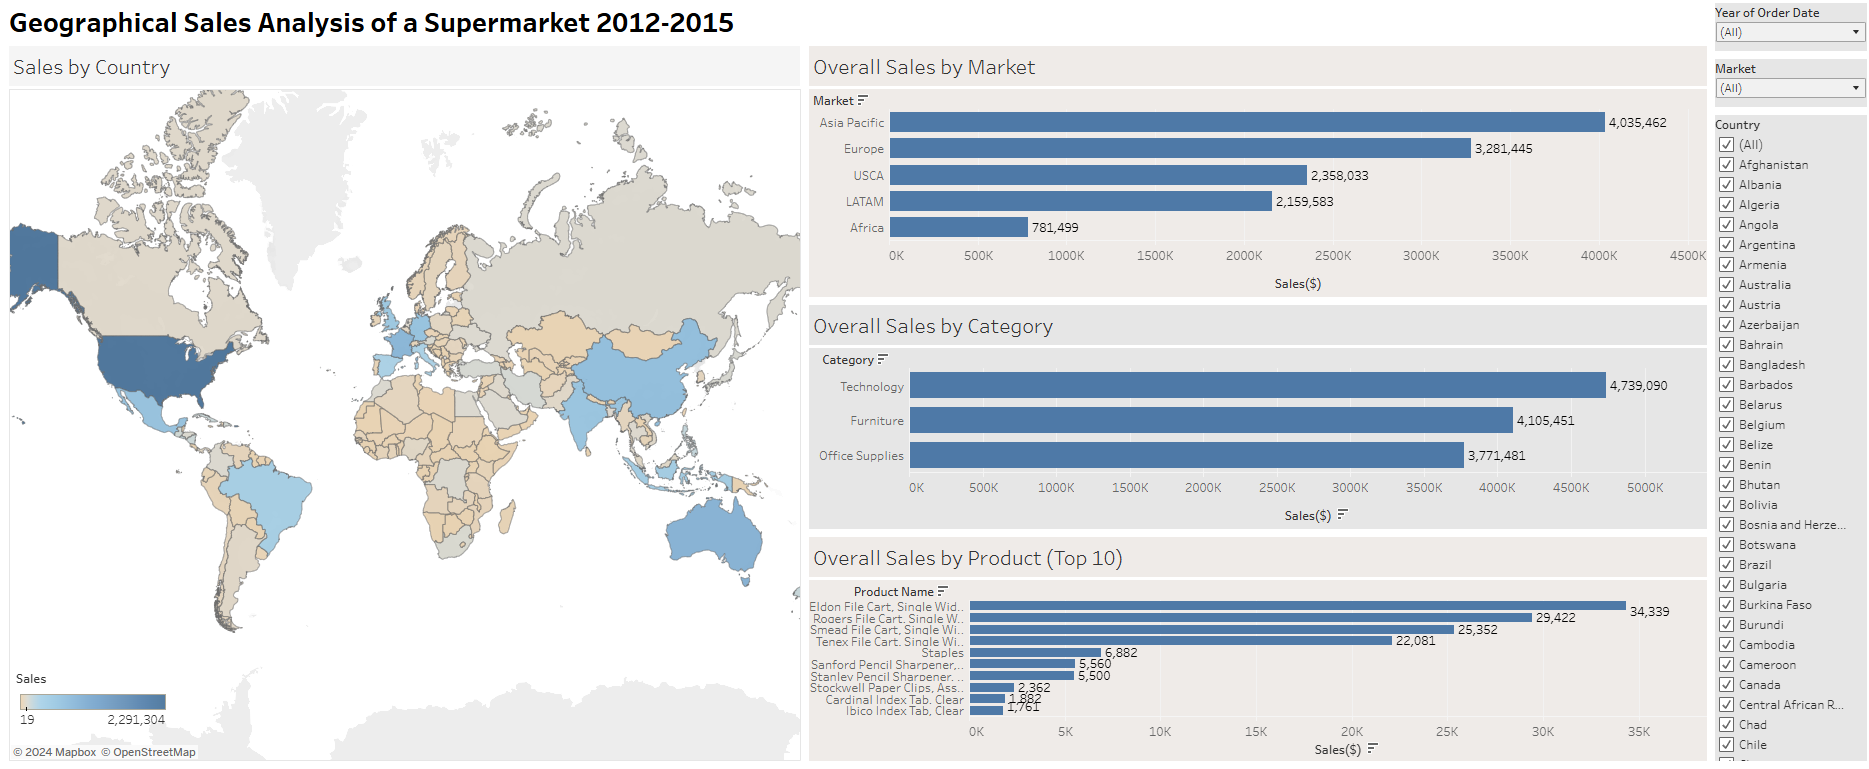

This screenshot's page, from the dashboard's own definition file:
{"tool":"tableau","page":{"name":"Dashboard 2","canvas":[1000,1000],"units":"permille","ordinal":0},"visuals":[{"type":"image","param":"Image/league_logo3.jpg","box":[5.2,8.3,230.2,219.8]},{"type":"text","box":[235.4,8.3,758.2,100]},{"type":"text","box":[235.4,108.4,758.2,42.1]},{"type":"image","param":"Image/top.png","box":[236,151.5,71,75.6]},{"type":"text","box":[307,151.5,80.5,75.6]},{"type":"image","param":"Image/jungle.png","box":[388.8,151.5,69.7,75.6]},{"type":"text","box":[458.5,151.5,61.3,75.6]},{"type":"image","param":"Image/mid.png","box":[531.9,151.5,78.1,75.6]},{"type":"text","box":[609.9,151.5,76.6,75.6]},{"type":"image","param":"Image/supp.png","box":[687.9,151.5,81.9,75.6]},{"type":"text","box":[769.8,151.5,69,75.6]},{"type":"image","param":"Image/bottom.png","box":[840.1,151.5,43.8,75.6]},{"type":"text","box":[883.9,151.5,109,75.6]},{"type":"worksheet","title":"Sheet 1","mark":"Automatic","rows":["Name"],"cols":["Pick %","Pick %"],"box":[5.2,228.2,352.6,381.8]},{"type":"worksheet","title":"Sheet 2","mark":"Automatic","rows":["Name","Role"],"cols":["Win %","Win %"],"box":[357.8,228.2,419,381.8]},{"type":"worksheet","title":"Sheet 4","mark":"Shape","rows":["Name"],"cols":["Role"],"box":[776.8,228.2,218.1,763.5]},{"type":"worksheet","title":"Sheet 3","mark":"Automatic","rows":["Name"],"cols":["Ban %","Ban %"],"box":[5.2,609.9,352.6,381.8]},{"type":"worksheet","title":"Sheet 5","mark":"Automatic","rows":["Role"],"cols":["Win %","Win %"],"box":[357.8,609.9,419,381.8]}]}

Visuals, with their boxes on the dashboard's canvas, which has no fixed pixel size, in thousandths of its width and height (x1, y1, x2, y2). These are canvas units, not pixel positions in the 1869x769 screenshot, which may show the page scaled, cropped or inside an application window:
image: box=[5, 8, 235, 228]
text: box=[235, 8, 994, 108]
text: box=[235, 108, 994, 150]
image: box=[236, 152, 307, 227]
text: box=[307, 152, 388, 227]
image: box=[389, 152, 458, 227]
text: box=[458, 152, 520, 227]
image: box=[532, 152, 610, 227]
text: box=[610, 152, 686, 227]
image: box=[688, 152, 770, 227]
text: box=[770, 152, 839, 227]
image: box=[840, 152, 884, 227]
text: box=[884, 152, 993, 227]
"Sheet 1" worksheet: box=[5, 228, 358, 610]
"Sheet 2" worksheet: box=[358, 228, 777, 610]
"Sheet 4" worksheet (Shape marks): box=[777, 228, 995, 992]
"Sheet 3" worksheet: box=[5, 610, 358, 992]
"Sheet 5" worksheet: box=[358, 610, 777, 992]
